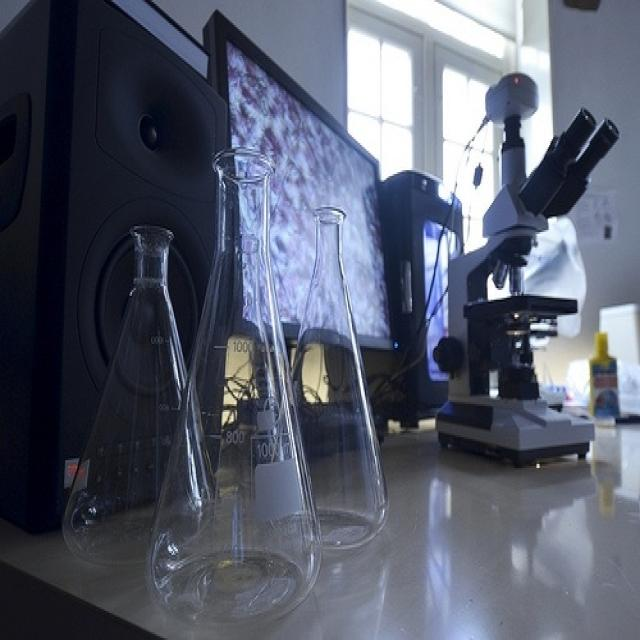Glass: (59, 142, 399, 640)
